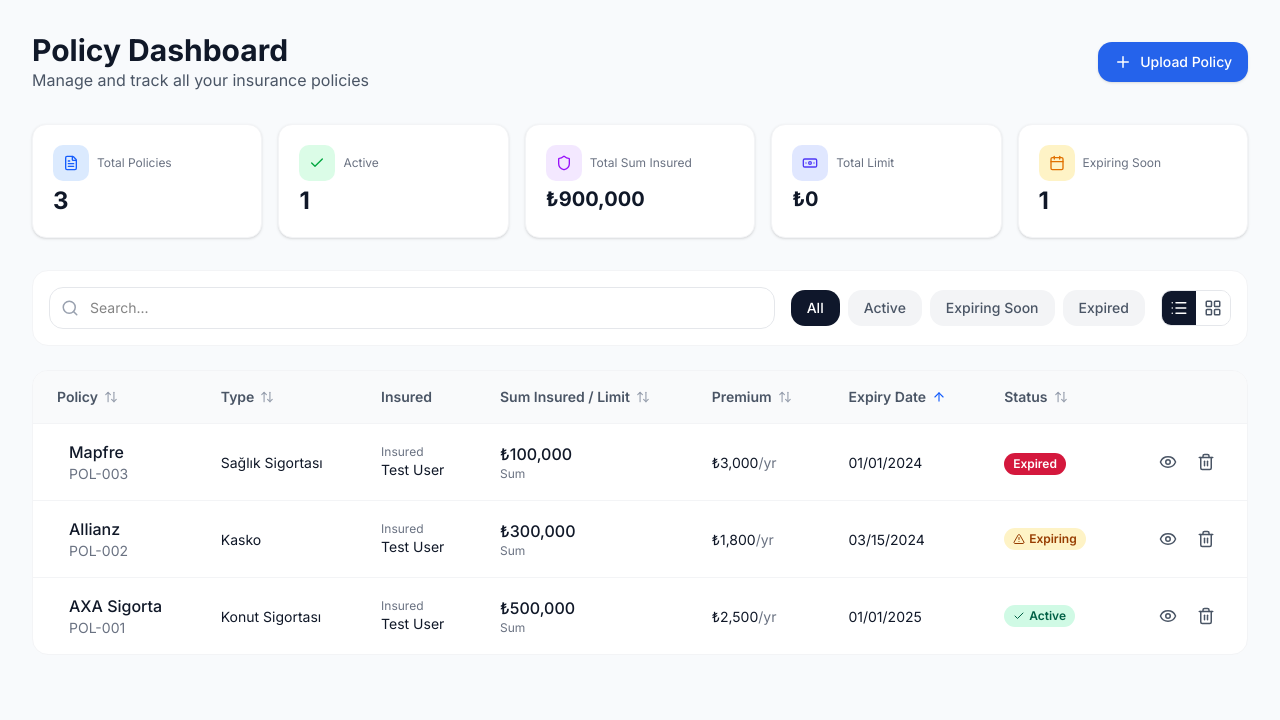
Test: PolicyDashboard › Status Filter › should filter by active status
Click the button "Active" at (885, 308), box [848,290,922,326]
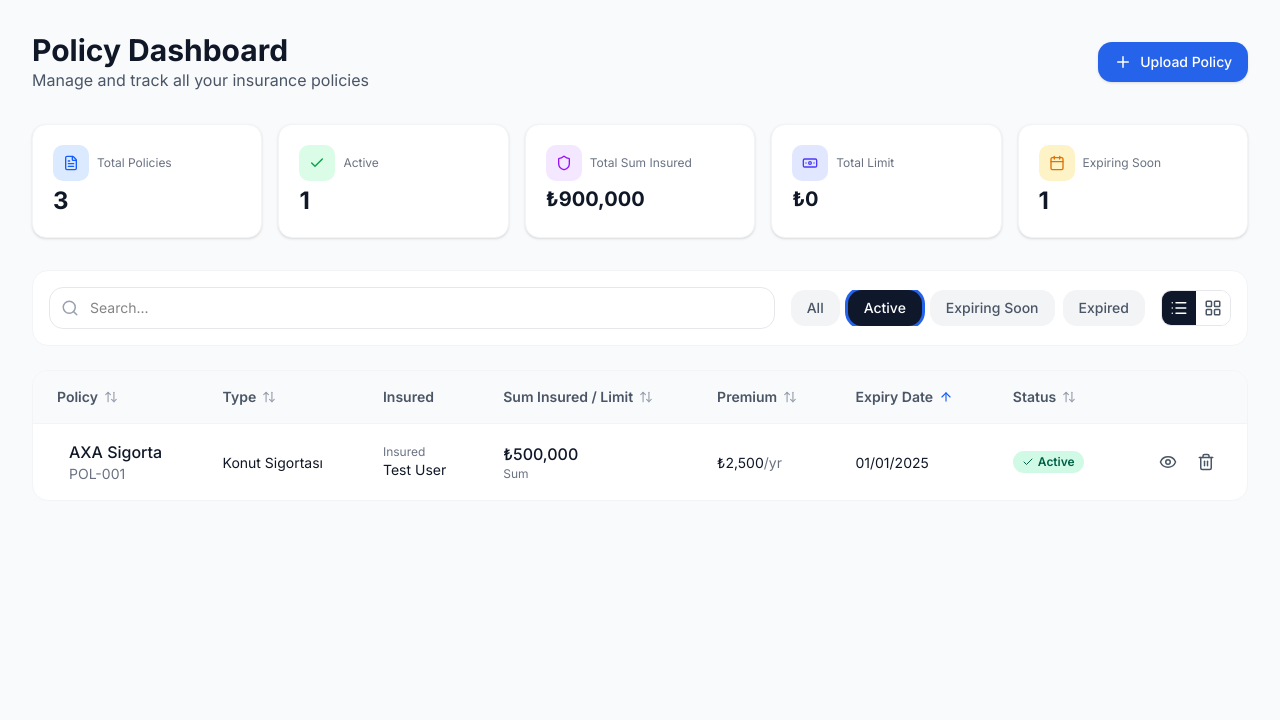
Expected: the text "POL-001" is shown, [69,465,125,482]
Expected: the text "POL-002" is gone
Expected: the text "POL-003" is gone
